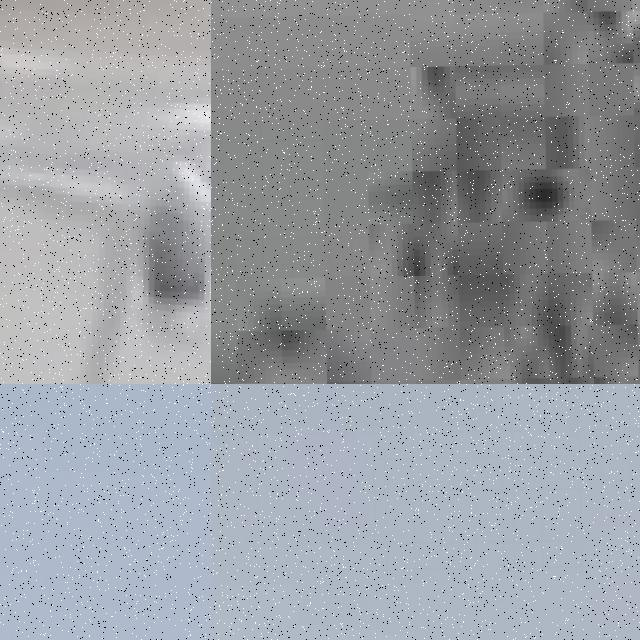drone: (0, 0, 211, 384)
